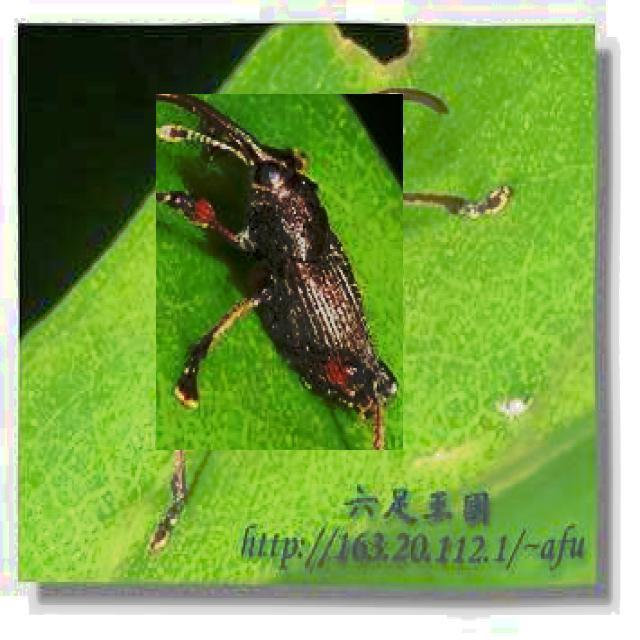rice-bug: (156, 94, 403, 450)
